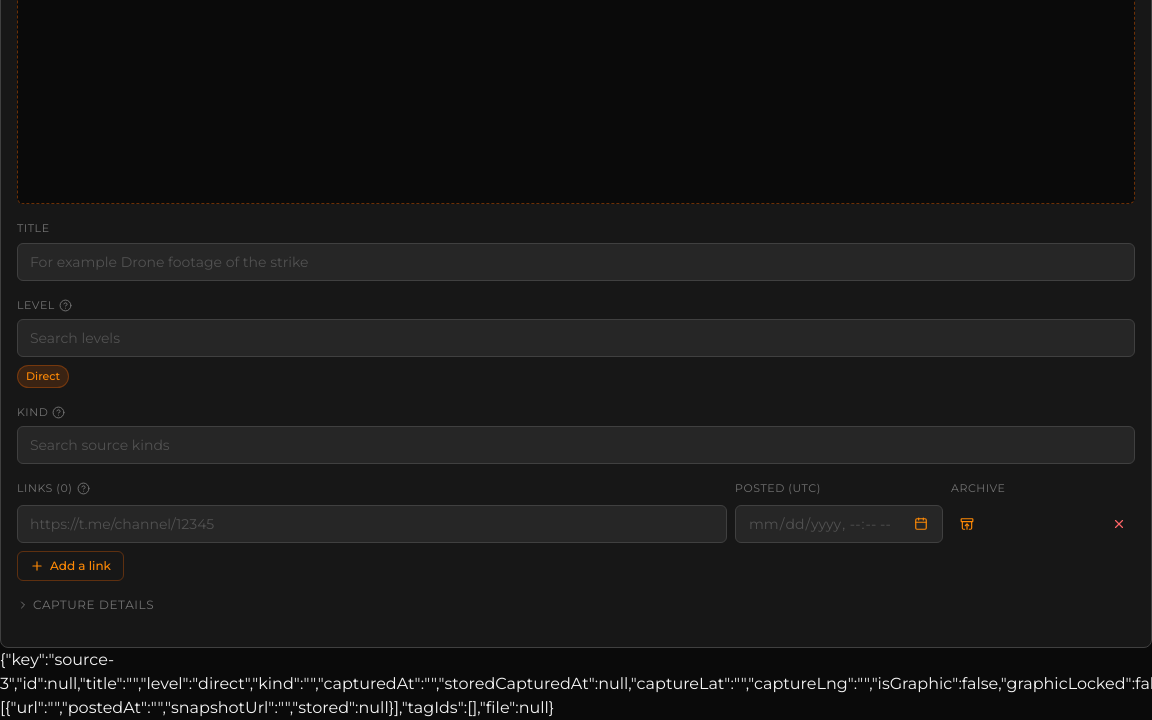
SourceEditor › shows the provider's reopening help and credit as a satellite link is typed
(page scrolled)
Step 1. Focus the dropdown named "Source 1 kind" → (576, 445), box x1=17 y1=426 x2=1135 y2=464
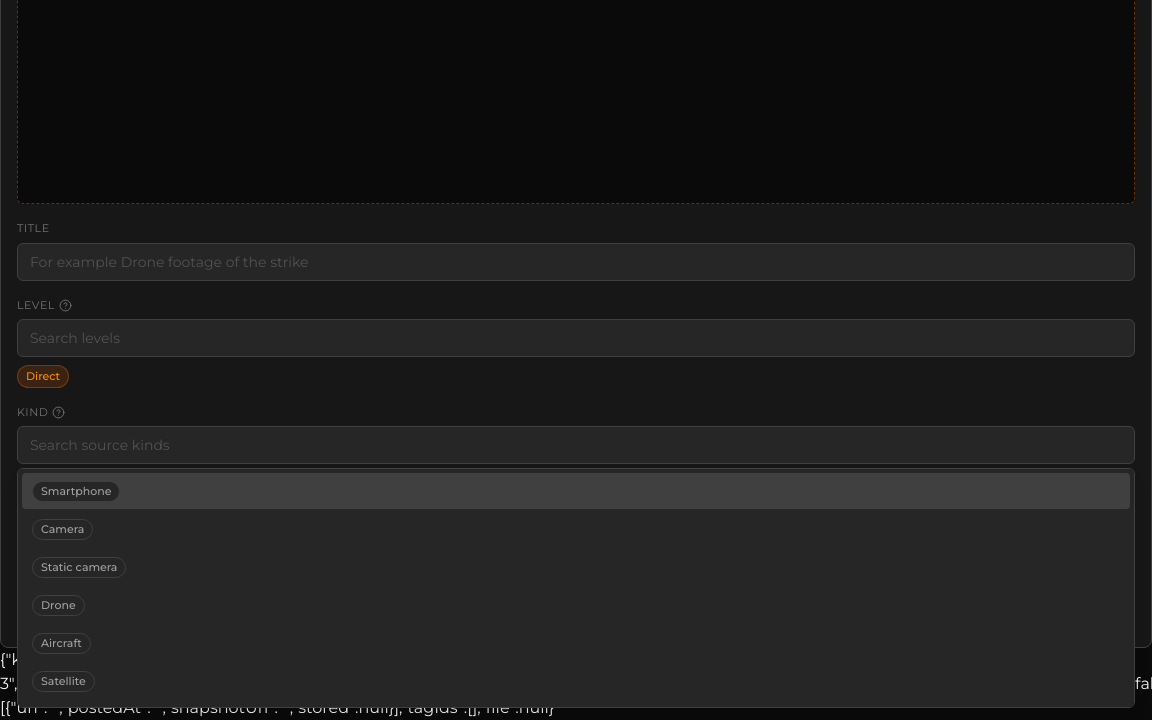
Step 2. Click the option "Satellite" → (63, 681), box x1=32 y1=670 x2=95 y2=692
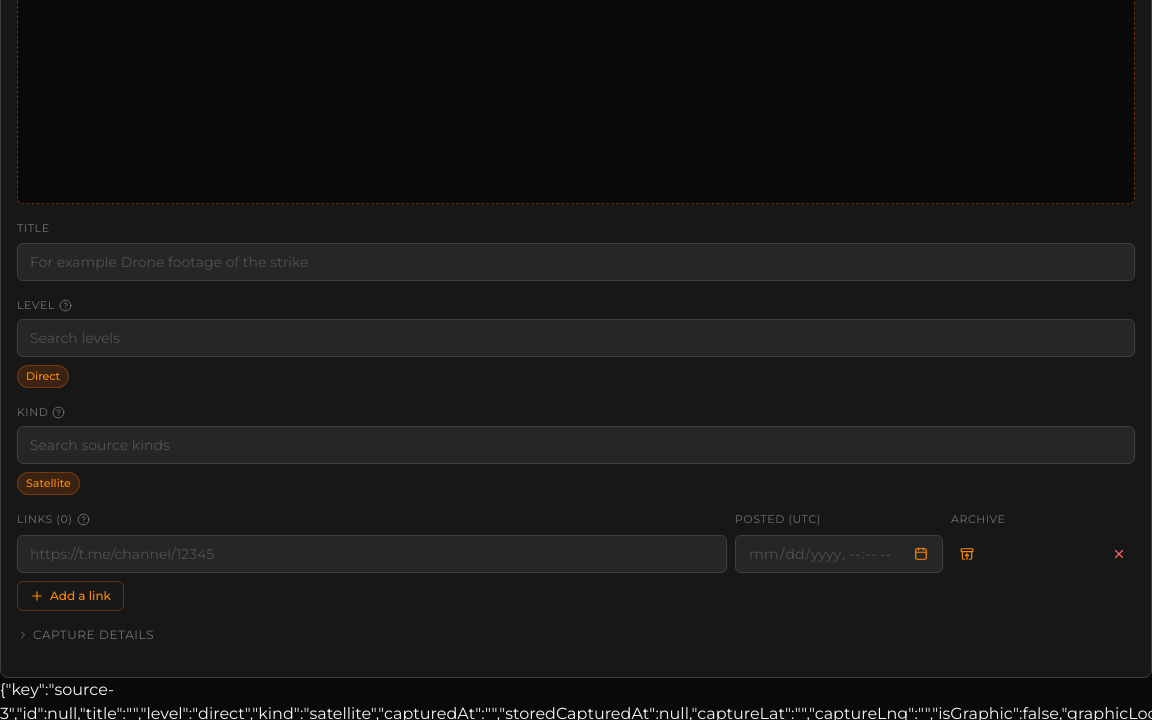
Step 3. Type "https://earth.google.com/web/@47.09,37.54,50a" into the field named "Source 1 link 1" → (372, 554), box x1=17 y1=535 x2=727 y2=573
Wait 500 ms
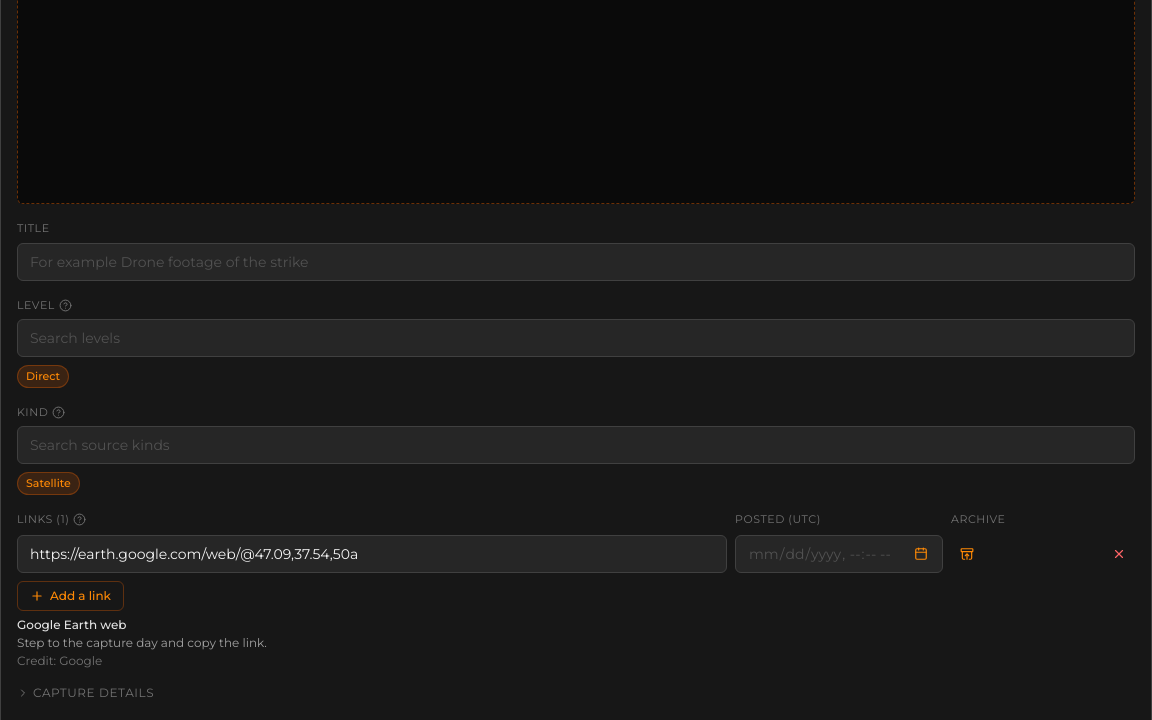
Now the text "Step to the capture day and copy the link." is shown, box x1=17 y1=635 x2=267 y2=650
Now the text "Credit: Google" is shown, box x1=17 y1=653 x2=102 y2=668
